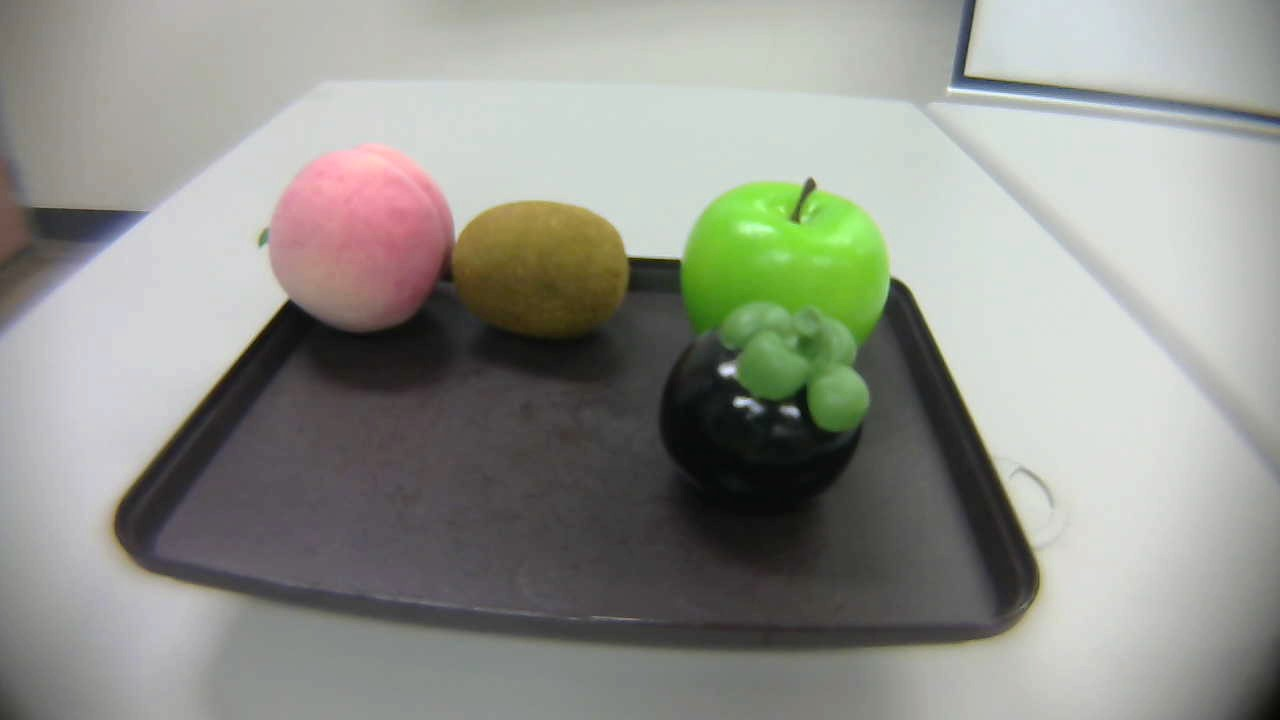green apple: (670, 179, 903, 371)
kiwi fruit: (440, 202, 635, 356)
mangosteen: (656, 294, 881, 524)
peach: (250, 143, 460, 348)
